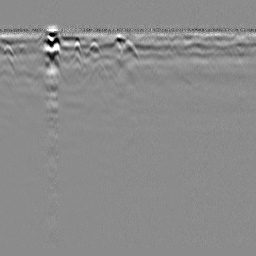cavity: (119, 38, 139, 60)
